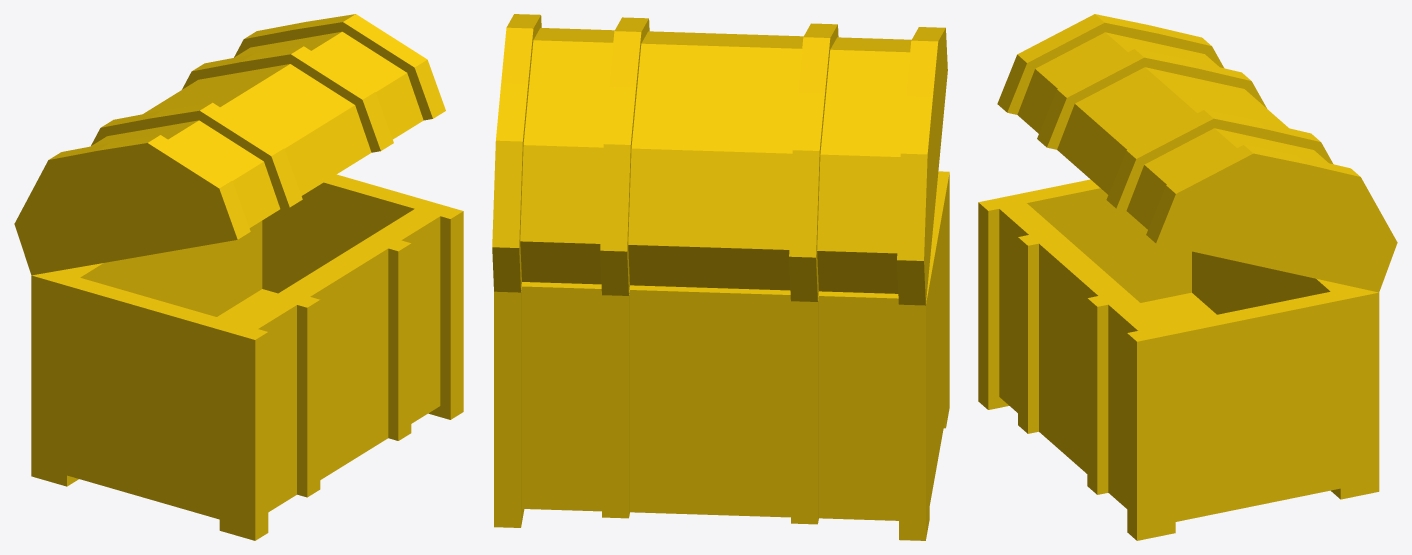
The model's file is yellow_chest.glb.
3 renders of one model, left to right at view 1: azimuth 30°, elevation 25°; view 2: azimuth 150°, elevation 25°; view 3: azimuth 270°, elevation 25°, orthographic. The views are drawn at different scales.
Visible parts, largest first — view 1: Chest, Lid; view 2: Lid, Chest; view 3: Chest, Lid.
Boxes of the visible parts, <box> form: Chest: <box>31,174,463,540</box>; Lid: <box>14,14,445,275</box>; Lid: <box>492,14,947,305</box>; Chest: <box>494,171,949,540</box>; Chest: <box>978,179,1379,540</box>; Lid: <box>997,14,1397,292</box>.
Bounding box in the file's own units: 3.73 × 3.29 × 3.43.
